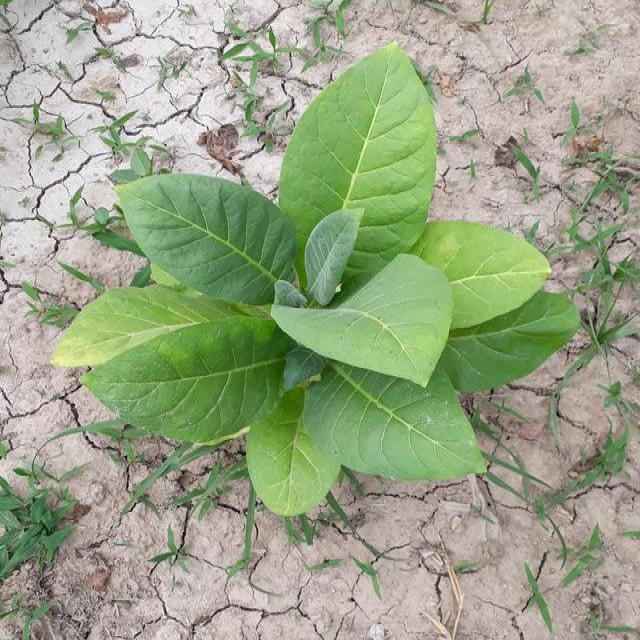crop: (77, 80, 568, 516)
